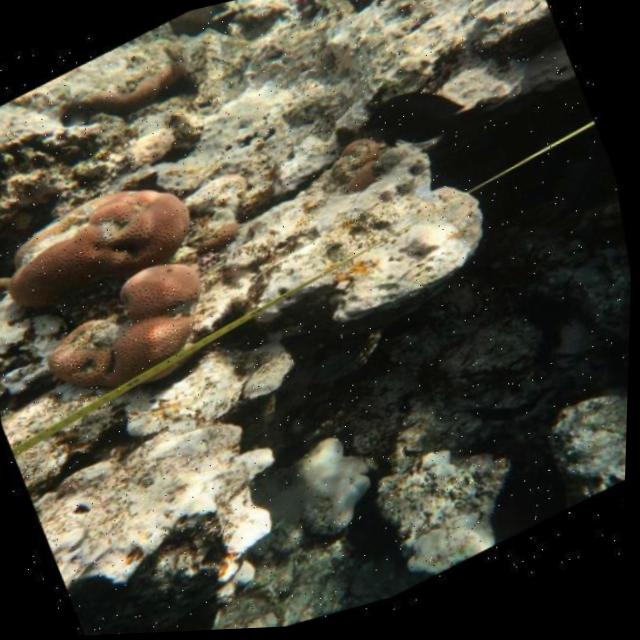Healthy Coral: (288, 0, 496, 45)
